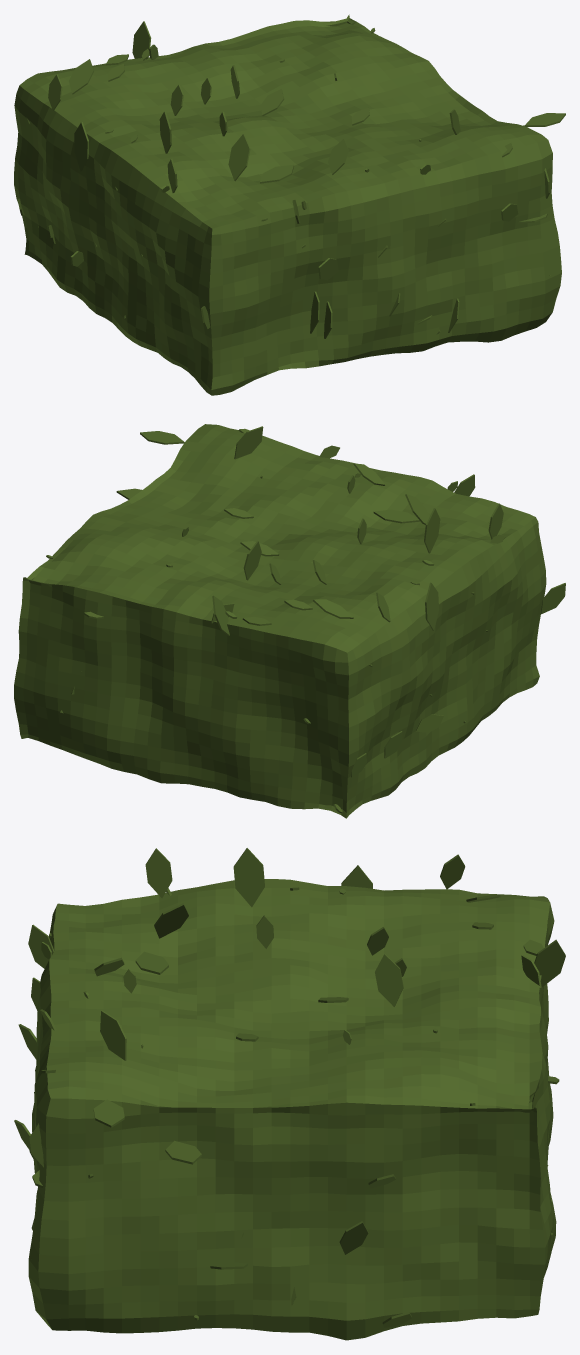
Rendered from FlatSquare.fbx.
The picture shows the model from 3 angles, top to bottom: view 1: azimuth 30°, elevation 25°; view 2: azimuth 150°, elevation 25°; view 3: azimuth 270°, elevation 25°; orthographic projection. The views are drawn at different scales.
Parts seen in each view (by area): view 1: Sphere.003; view 2: Sphere.003; view 3: Sphere.003.
Boxes of the visible parts, x1,y1,x2,y2 form: Sphere.003: (14, 14, 565, 395); Sphere.003: (14, 424, 565, 818); Sphere.003: (14, 848, 565, 1340).
Size of the model in its own units: 620 by 351 by 581.
